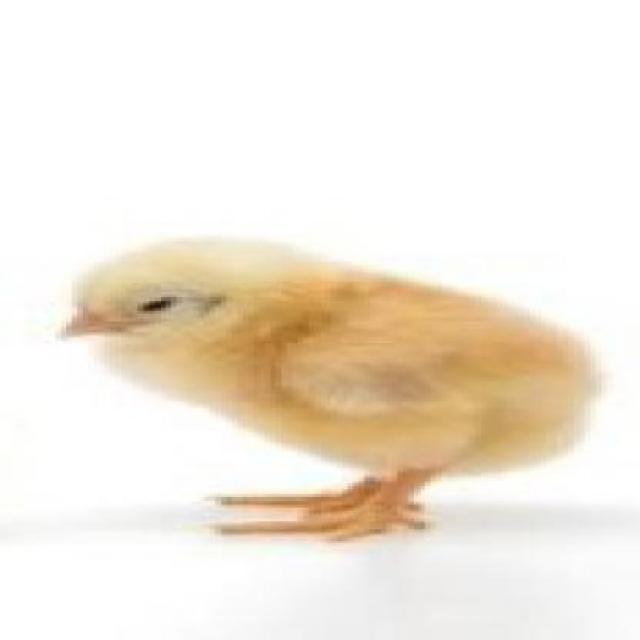poussin: (55, 230, 614, 545)
